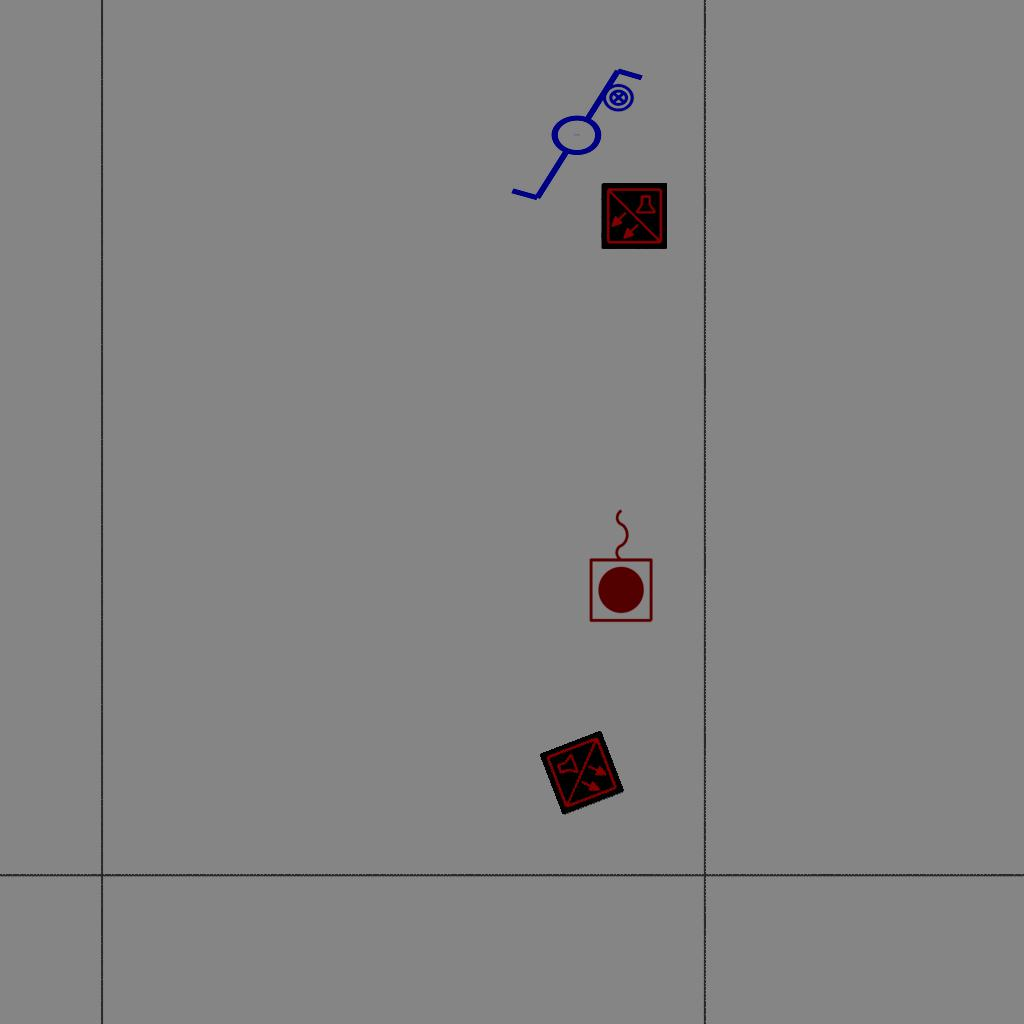OKW_Multisensormelder_(Kombination_optischer_Rauch-Kahlenmonoxid_Waerme-Melder): (539, 730, 625, 816), (601, 183, 667, 249)
Taster_beleuchtet: (602, 81, 635, 114)
Wechselschalter: (490, 61, 647, 205)
Zugtaster: (586, 504, 658, 626)
